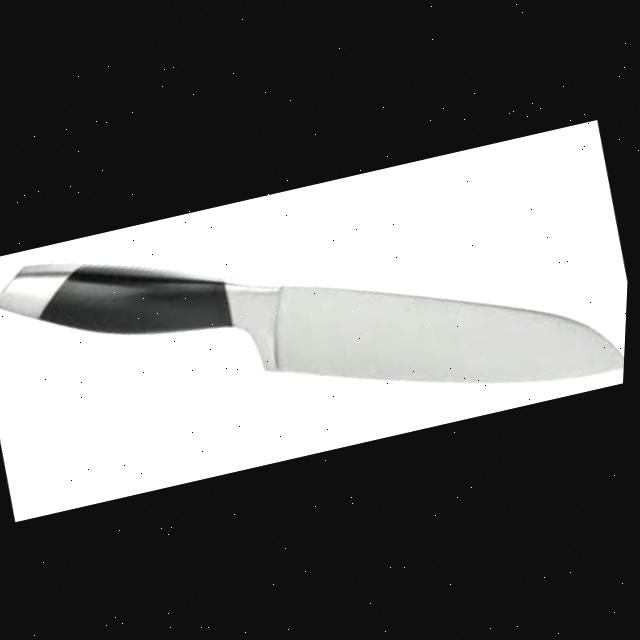Knife: (0, 133, 635, 505)
